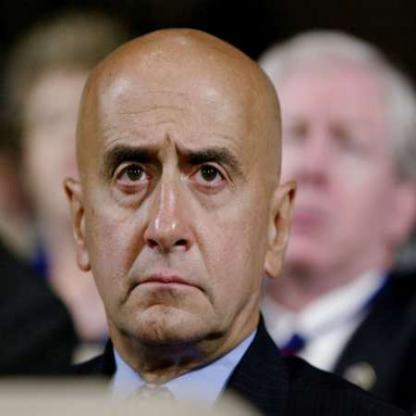face: (84, 30, 276, 350), (253, 38, 404, 279)
